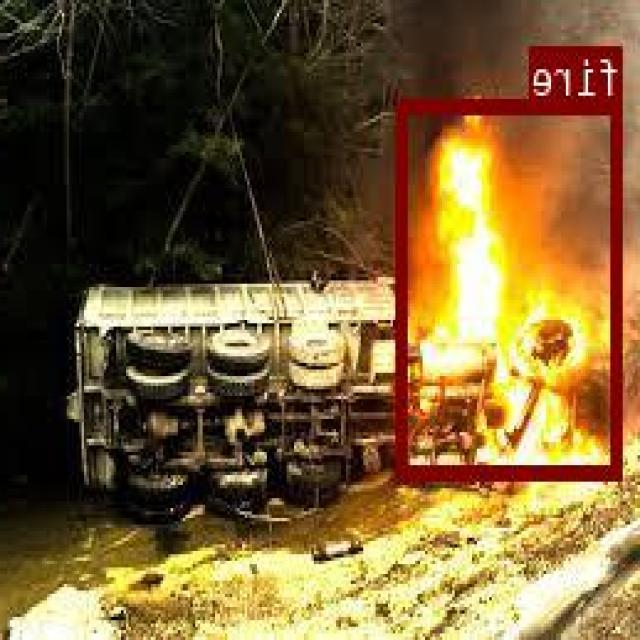fire: (400, 99, 625, 475)
